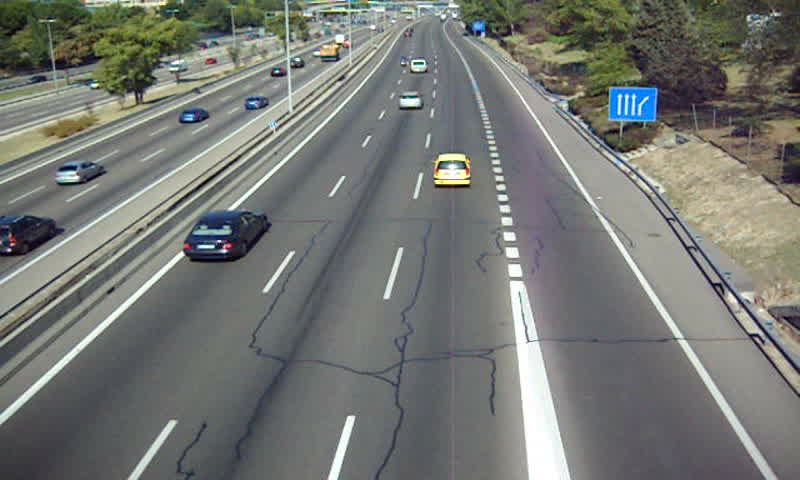car: (179, 212, 267, 260), (431, 152, 472, 187), (399, 90, 422, 110), (410, 58, 428, 75)
